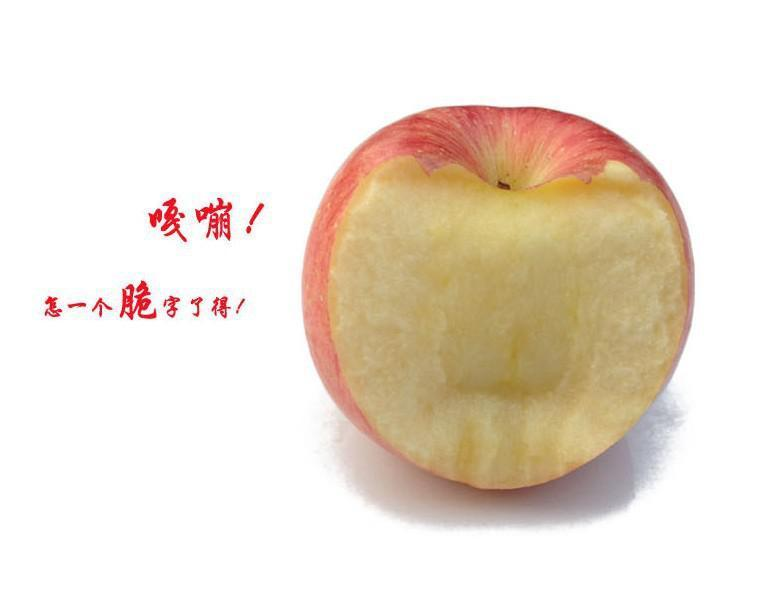apple: (300, 105, 699, 502)
